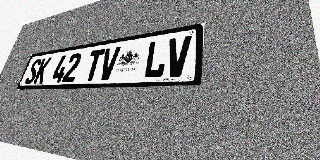2: (62, 52, 83, 82)
4: (50, 54, 71, 83)
K: (33, 57, 52, 84)
L: (143, 39, 169, 78)
S: (24, 59, 42, 84)
T: (83, 49, 105, 81)
V: (164, 35, 192, 77), (97, 46, 121, 81)
